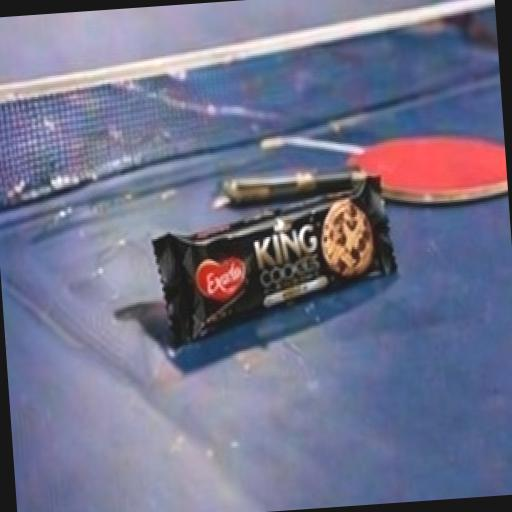king_cooking: (105, 116, 464, 358)
